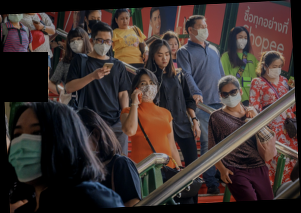with_mask: (9, 123, 45, 184), (218, 88, 243, 110), (138, 79, 159, 102), (92, 36, 113, 57), (265, 63, 284, 81), (193, 24, 210, 43), (69, 37, 85, 54), (85, 14, 103, 29), (235, 33, 249, 50), (8, 14, 25, 23)
without_mask: (154, 50, 172, 68), (167, 40, 180, 55), (118, 14, 130, 28)
